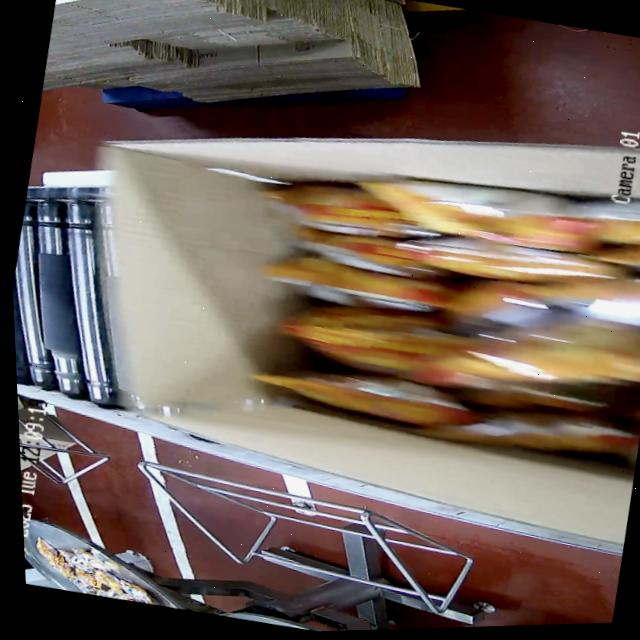FRENCH_CHEESE: (230, 140, 640, 475)
